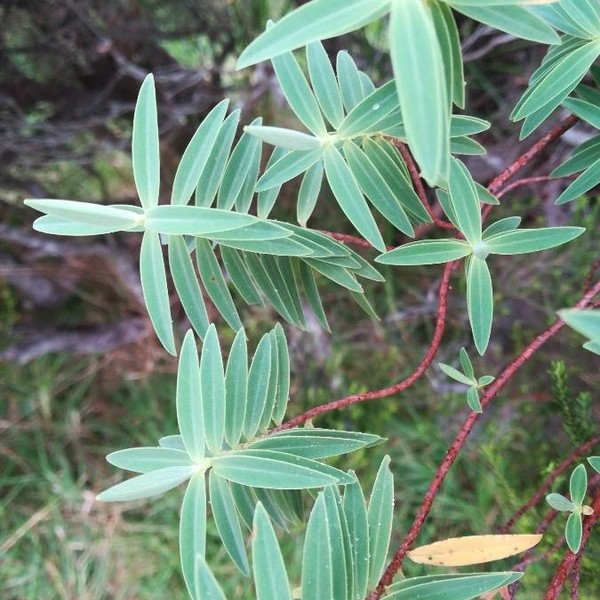obstacle: (61, 18, 559, 576), (284, 35, 557, 336), (75, 335, 430, 514)
